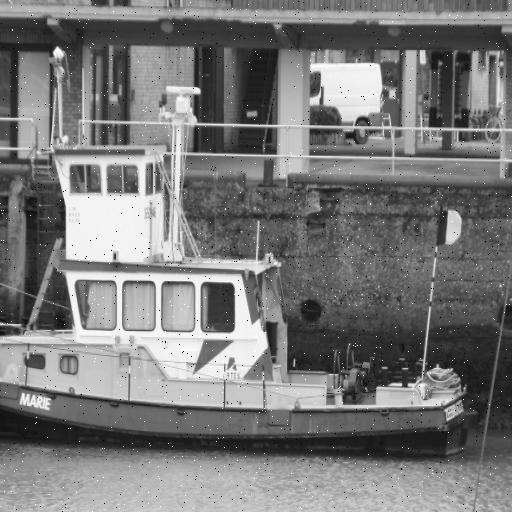tugboat: (1, 138, 476, 465)
